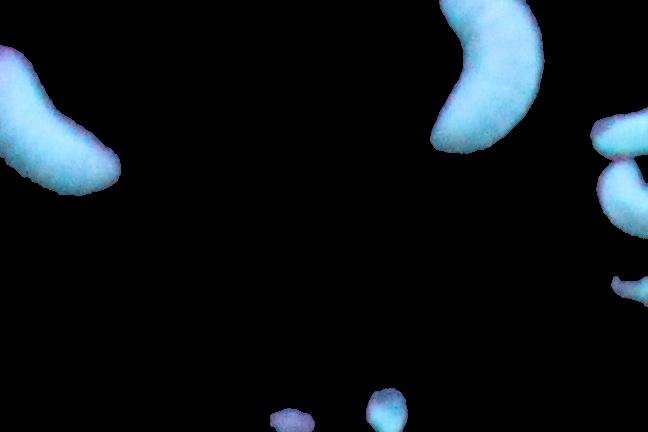larvae: (428, 1, 544, 153), (1, 51, 120, 197), (587, 160, 648, 237)
